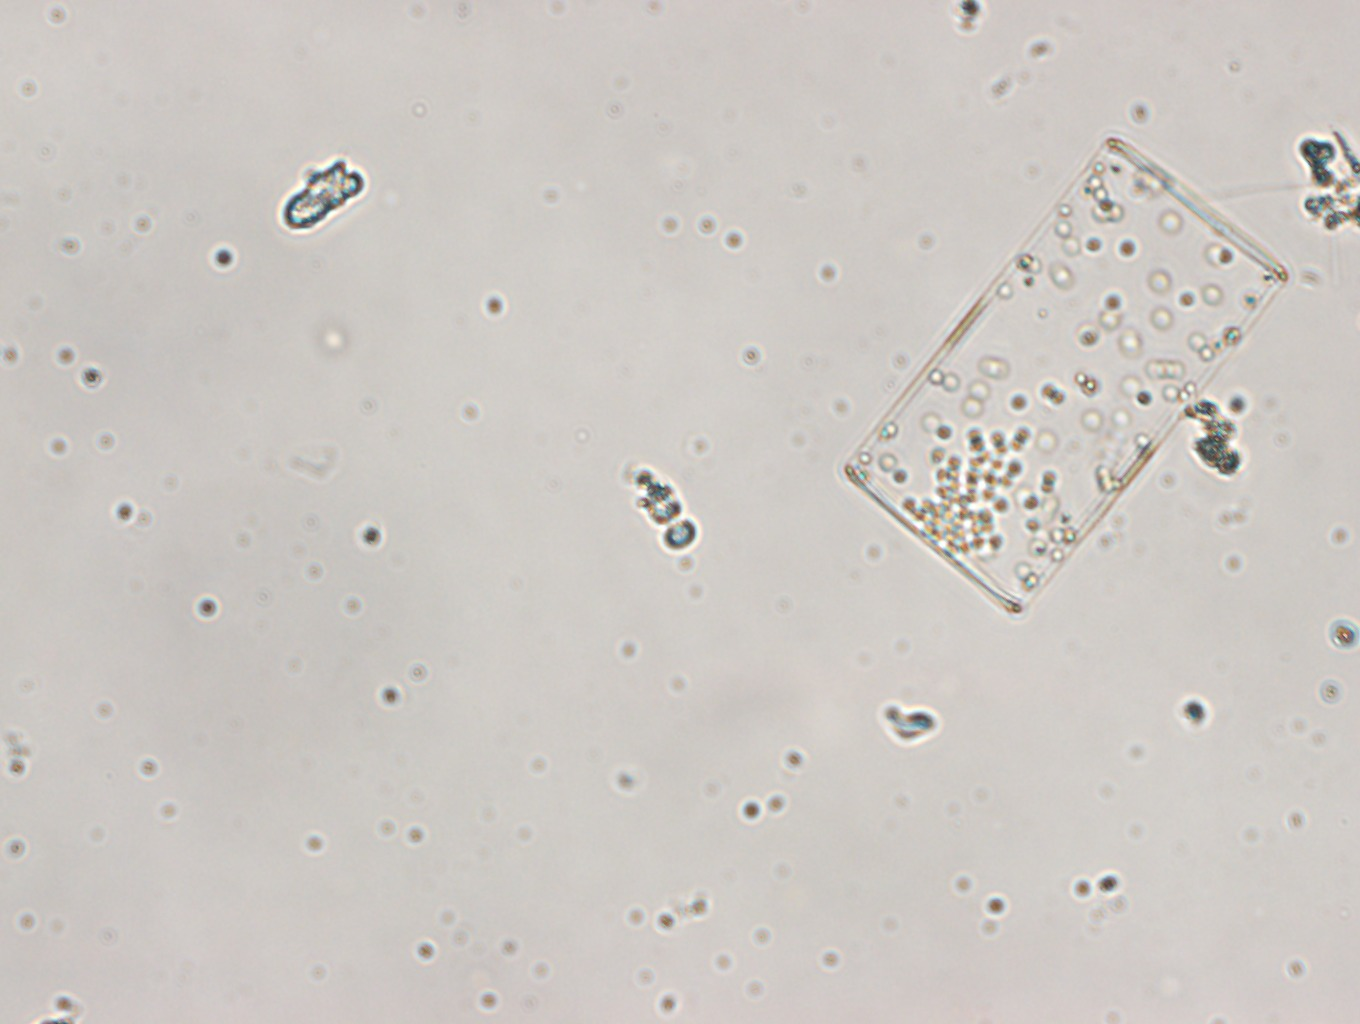guinardia flaccida: (841, 125, 1300, 626)
